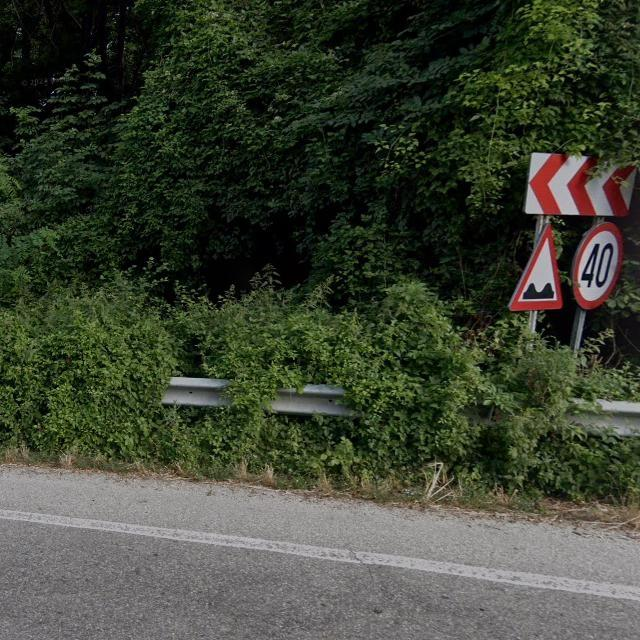forb_speed_over_40: (572, 223, 624, 309)
